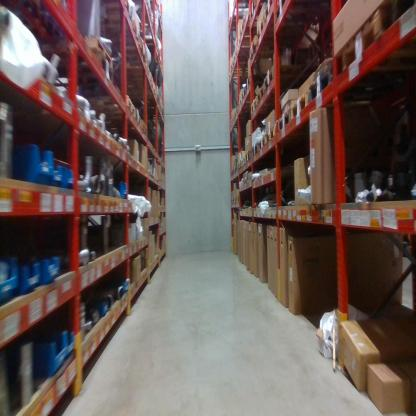pallet: (340, 5, 413, 89), (309, 60, 403, 107), (291, 90, 379, 127), (38, 33, 116, 66), (37, 50, 114, 82), (264, 1, 330, 32), (254, 84, 319, 115), (248, 35, 317, 64), (263, 62, 327, 93), (255, 22, 322, 46), (86, 92, 135, 120), (93, 20, 144, 42), (106, 40, 147, 67), (250, 96, 297, 115), (240, 20, 269, 43), (250, 1, 277, 22), (238, 90, 261, 114), (143, 36, 163, 62), (275, 110, 291, 136), (245, 77, 262, 96), (265, 121, 276, 147), (251, 141, 262, 162), (259, 132, 267, 152), (134, 107, 142, 127), (142, 123, 148, 140), (246, 152, 252, 165), (240, 157, 246, 167)
